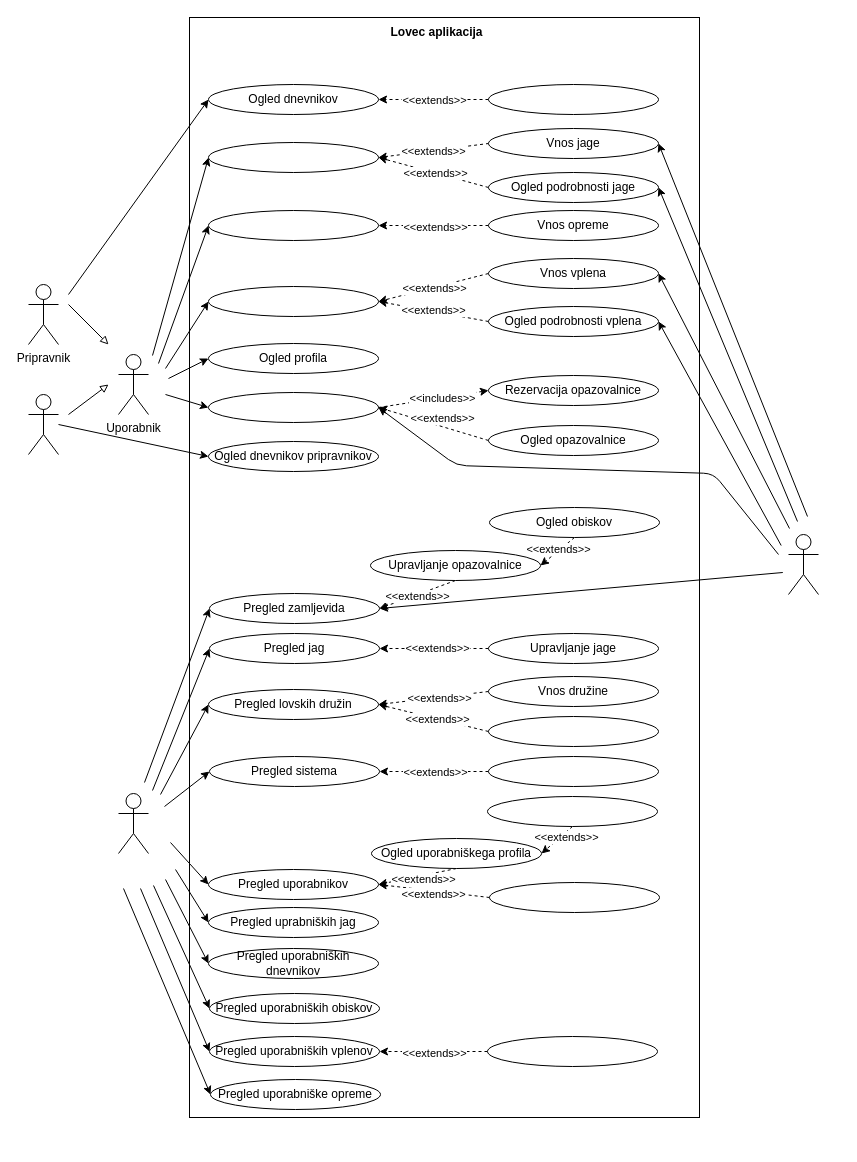
This 857x1162 diagram has some shape labels left out. The shapes that lost their labels are listed below. From the top down, each one's box as (x1, y1, x2, y2) in pixels, then its label:
(488, 84, 658, 114): Vnos dnevnika
(208, 142, 378, 172): Ogled jag
(208, 210, 378, 240): Ogled opreme
(208, 286, 378, 316): Ogled vplenov
(28, 394, 58, 454): Lovec
(208, 392, 378, 422): Ogled zemljevida
(788, 534, 818, 594): Zemljevid API
(488, 716, 658, 746): Upravljanje družine
(488, 756, 658, 786): Upravljanje sistema
(118, 792, 148, 854): Administrator
(486, 796, 658, 826): Ureditev uporabniškega profila
(488, 882, 660, 912): Vnos uporabnika
(486, 1036, 658, 1066): Pregled uporabniških podrobnosti o vplenu
